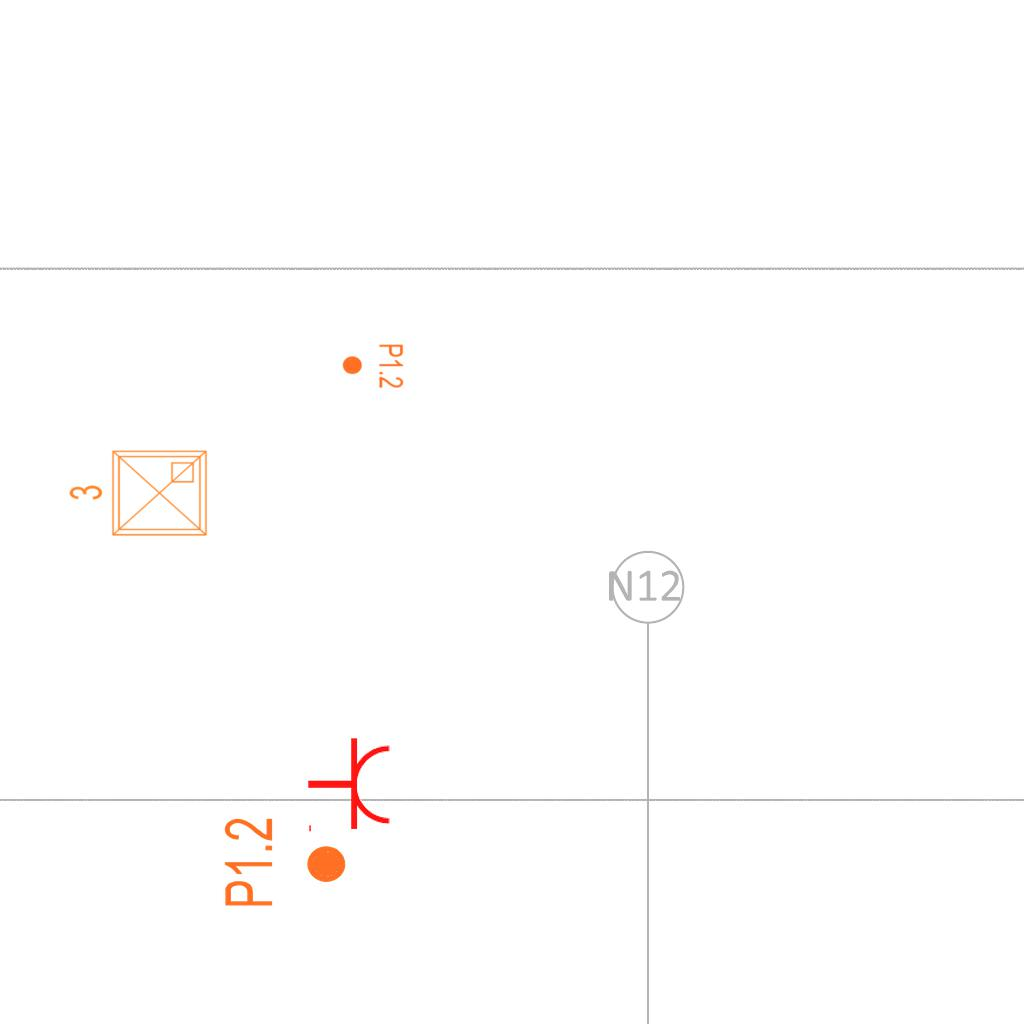Downlight_LED_Einbauleuchten_Flur: (221, 816, 349, 909), (341, 343, 405, 389)
Einbaudownlights_LED_Konferenzraeume: (64, 443, 214, 547)
Schukosteckdose_einfach: (306, 736, 393, 836)
